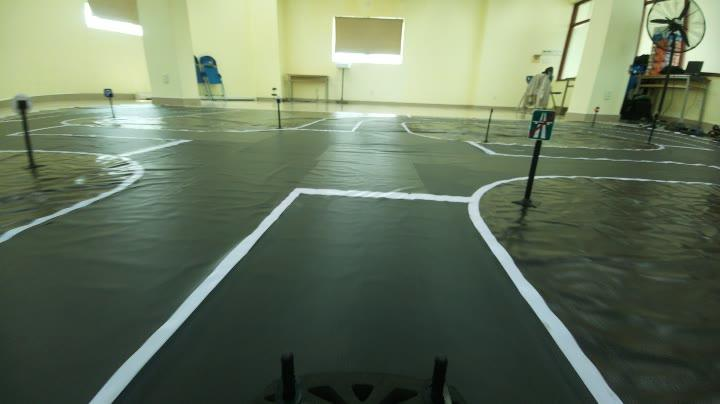highway_exit: (528, 110, 558, 144)
